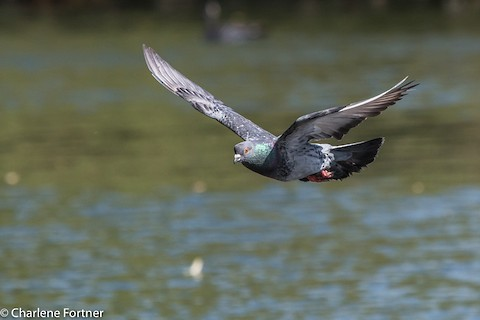pigeon: (139, 41, 427, 186)
